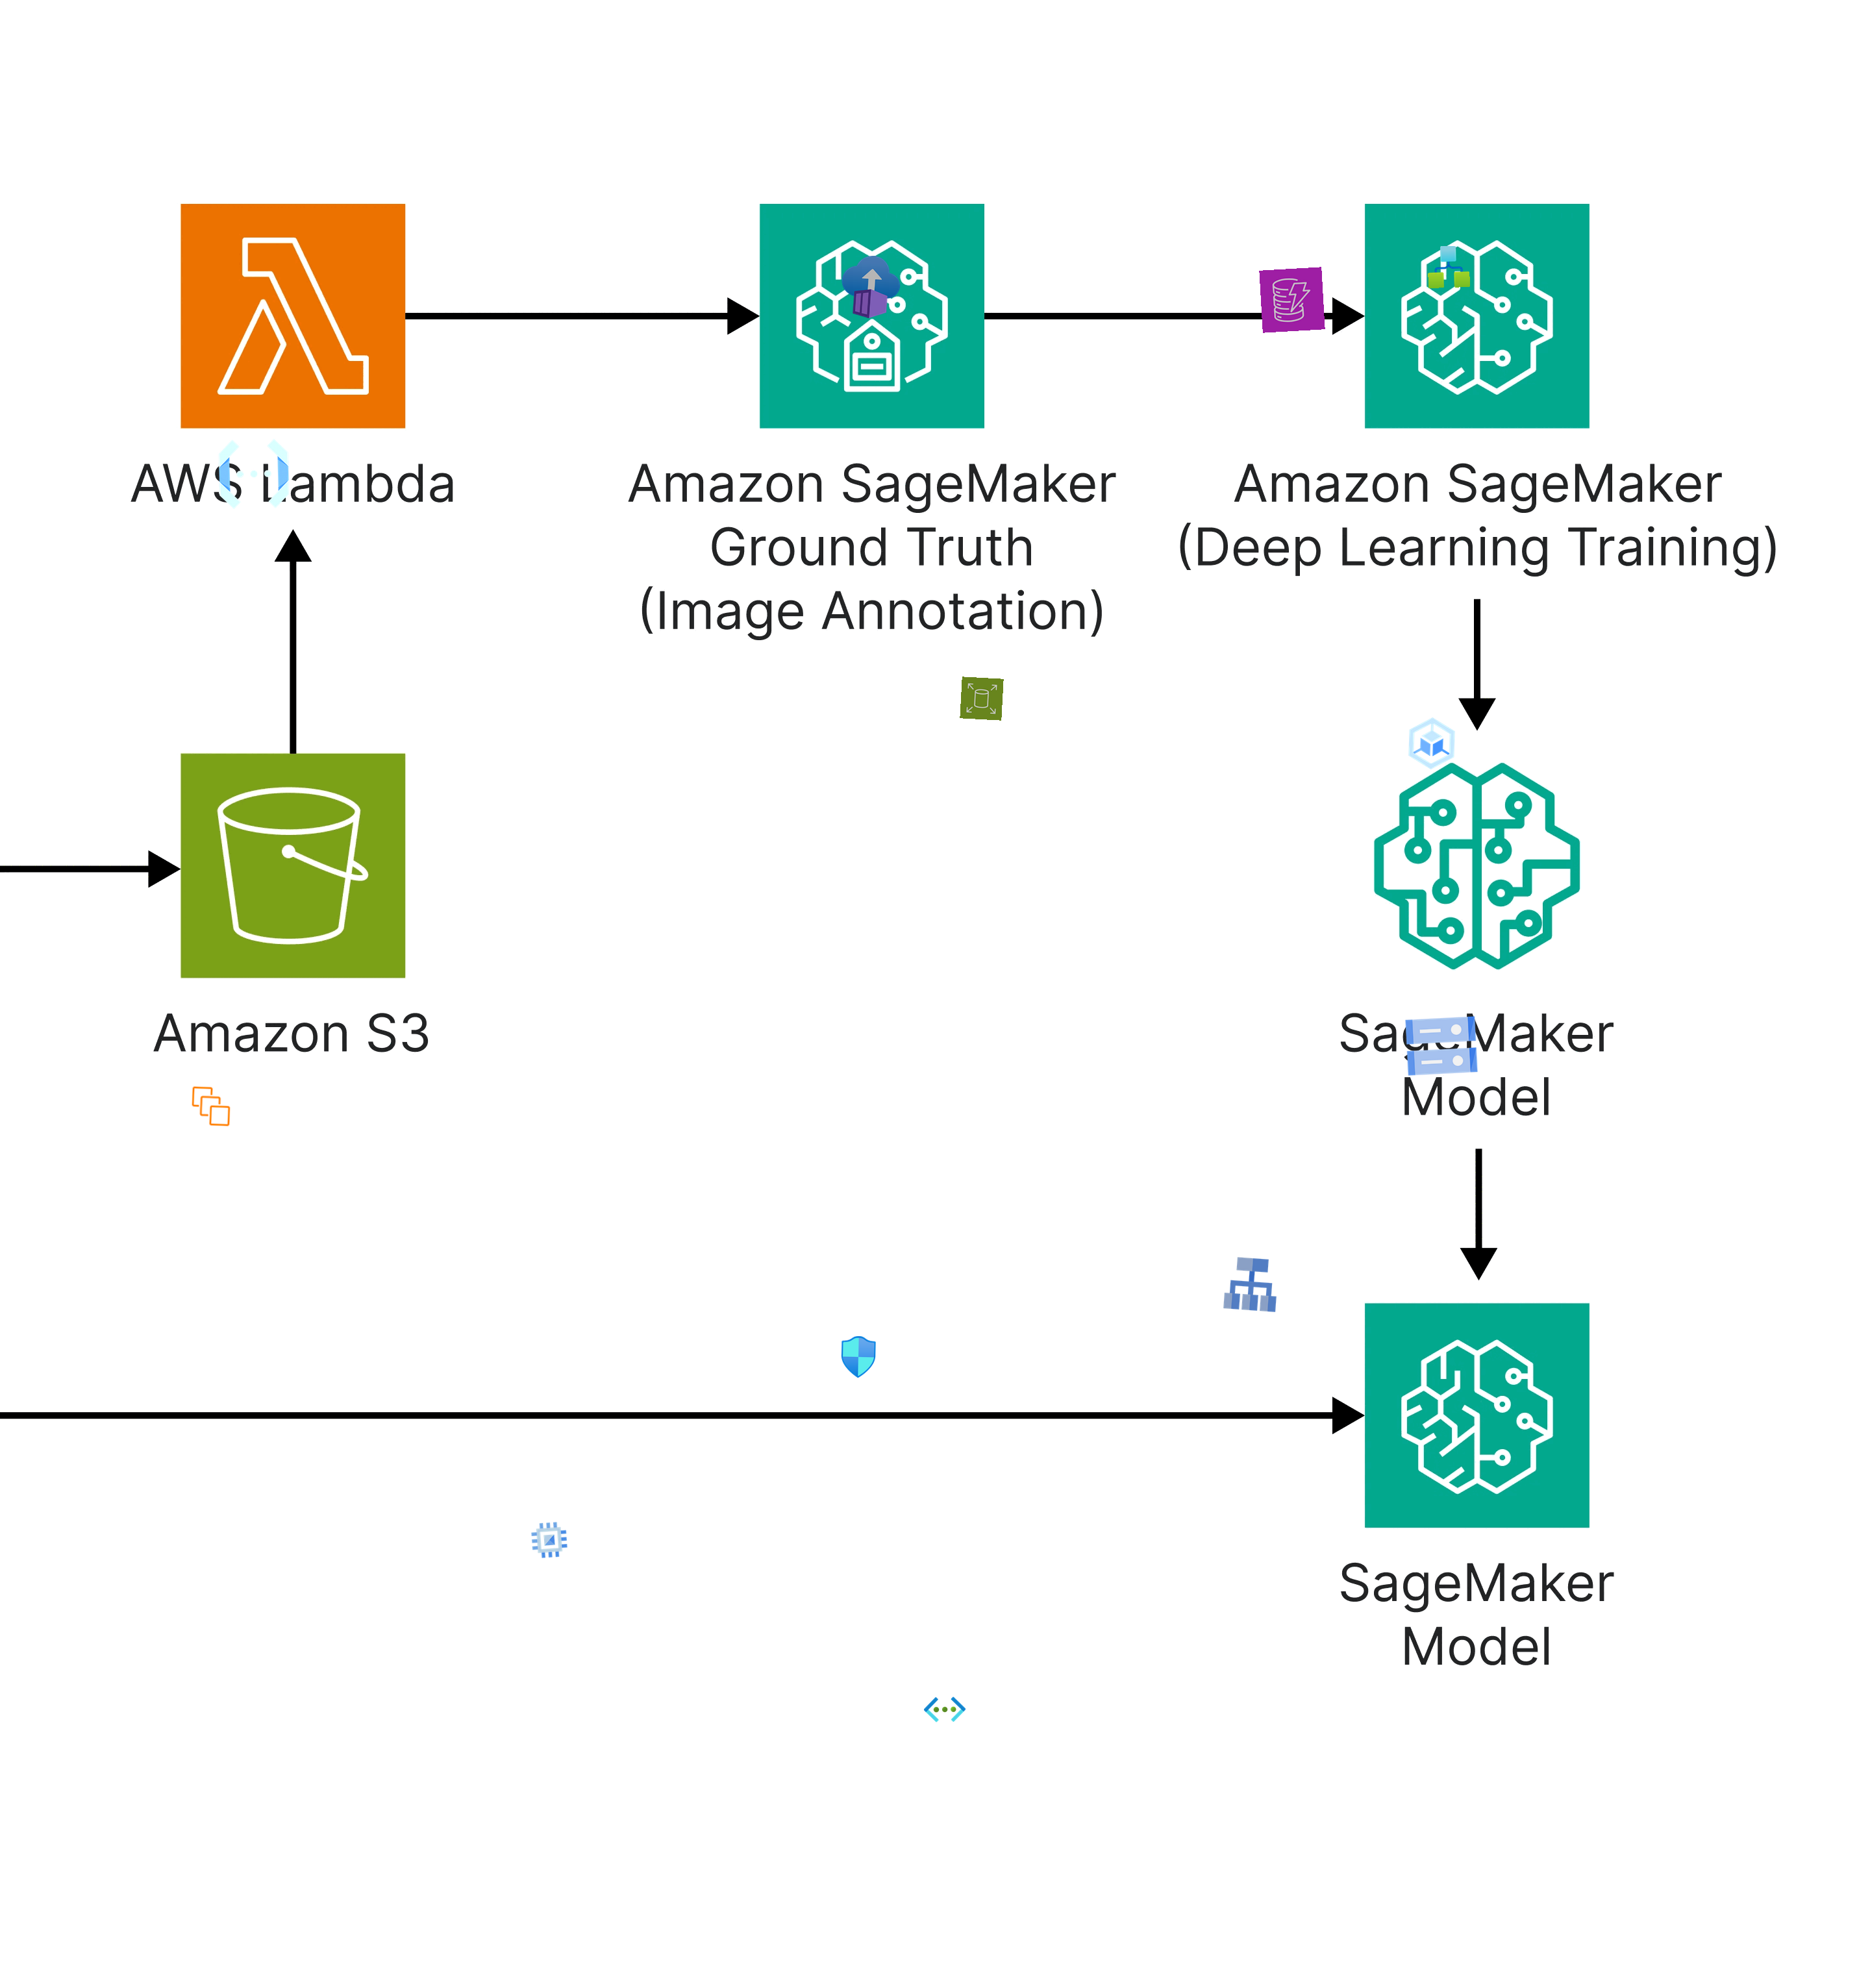aws_amazon_dynamodb: (1258, 267, 1325, 332)
aws_amazon_elastic_block_store: (960, 677, 1004, 721)
aws_ec2_instances: (190, 1085, 234, 1128)
azure_container_instances: (837, 253, 905, 320)
azure_logic_apps: (1427, 244, 1471, 288)
azure_network_security_groups: (837, 1336, 881, 1378)
azure_virtual_networks: (923, 1687, 967, 1731)
gcp_cloud_functions: (211, 431, 297, 517)
gcp_cloud_load_balancing: (1218, 1250, 1285, 1318)
gcp_cloud_storage: (1397, 1002, 1485, 1090)
gcp_compute_engine: (527, 1517, 571, 1563)
gcp_google_kubernetes_engine: (1399, 710, 1464, 775)
